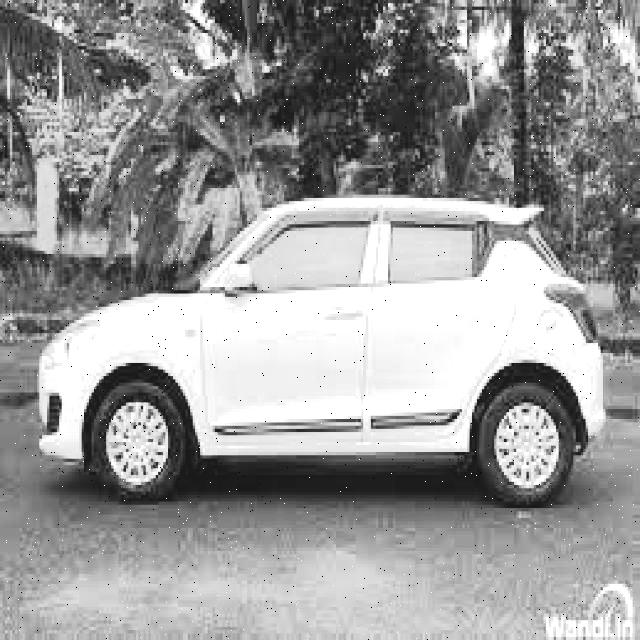Car: (38, 184, 611, 510)
